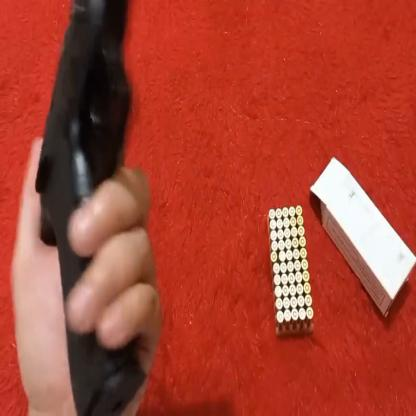handgun: (28, 0, 153, 416)
